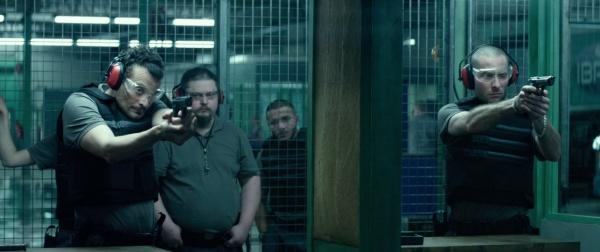Gun: (171, 96, 193, 118), (529, 75, 556, 91)
